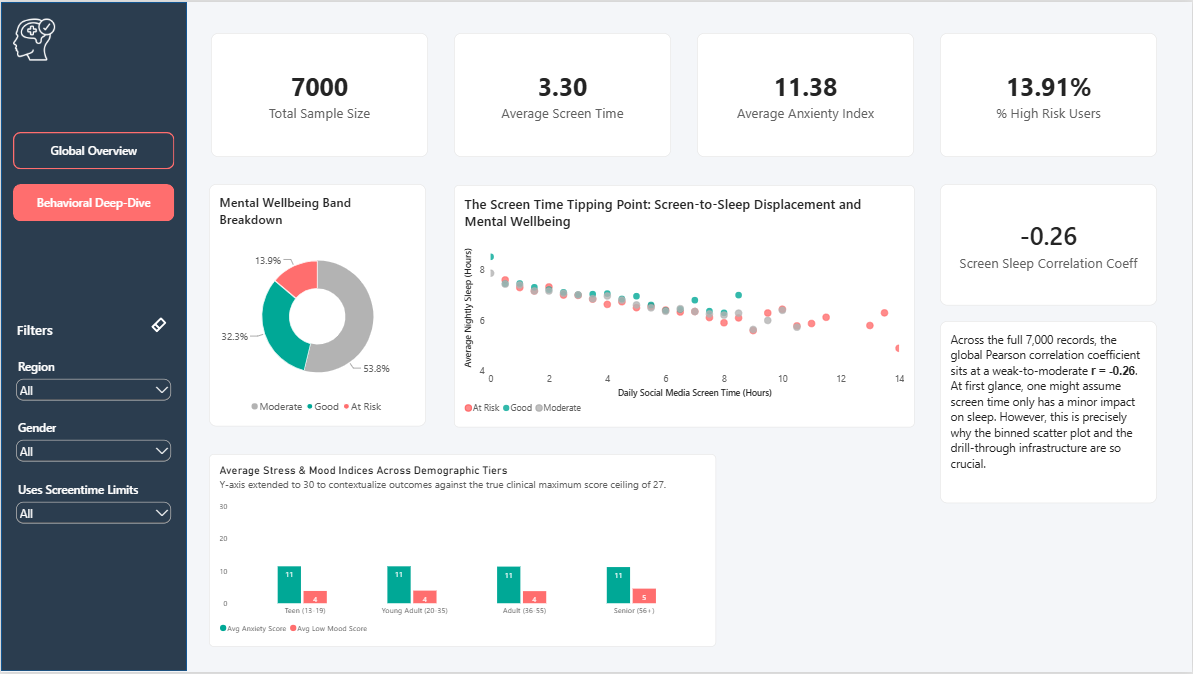

Layout of this report page (visuals, bound fields, positions):
{"tool":"powerbi","page":{"name":"Page 1","canvas":[1920,1080],"ordinal":0},"visuals":[{"type":"card","fields":{"Values":["_Measures.Total Size"]},"box":[339.3,50,350,200],"z":0},{"type":"card","fields":{"Values":["_Measures.Average Screen Time"]},"box":[731,49.8,350,200],"z":1000},{"type":"card","fields":{"Values":["_Measures.Average Anxienty Index"]},"box":[1122.6,49.8,350,200],"z":2000},{"type":"card","fields":{"Values":["_Measures.% High Risk Users"]},"box":[1514.3,50,350,200],"z":3000},{"type":"donutChart","title":"Mental Wellbeing Band Breakdown","fields":{"Category":["smmh_screentime.wellbeing_band"],"Y":["CountNonNull(smmh_screentime.wellbeing_band)"]},"box":[335.7,292.9,350,391.2],"z":4000},{"type":"scatterChart","title":"The Screen Time Tipping Point: Screen-to-Sleep Displacement and Mental Wellbeing","fields":{"Series":["smmh_screentime.wellbeing_band"],"X":["smmh_screentime.Screen_Time_Bin"],"Y":["Avg(smmh_screentime.avg_sleep_hours)"]},"box":[730.4,294.6,742.9,391.1],"z":5000},{"type":"clusteredColumnChart","title":"Average Stress & Mood Indices Across Demographic Tiers","fields":{"Category":["smmh_screentime.Age_Group"],"Y":["_Measures.Avg Anxiety Score","_Measures.Avg Low Mood Score"]},"box":[335.7,728.6,817.9,310.7],"z":6000},{"type":"card","fields":{"Values":["_Measures.Screen Sleep Correlation Coeff"]},"box":[1514.9,293.8,350,195.8],"z":7000},{"type":"textbox","box":[1514.5,514.5,350,293.5],"z":8000},{"type":"shape","box":[0,0,300,1079.3],"z":9000},{"type":"slicer","fields":{"Values":["smmh_screentime.region"]},"box":[19,575.9,260.3,110.3],"z":10000},{"type":"slicer","fields":{"Values":["smmh_screentime.gender"]},"box":[19,674.1,260.3,110.3],"z":11000},{"type":"slicer","fields":{"Values":["smmh_screentime.uses_screen_time_limits"]},"box":[19,774.1,260.3,110.3],"z":12000},{"type":"actionButton","title":"Global Overview","box":[19,210.3,260.3,60],"z":13000},{"type":"actionButton","title":"Behavioral Deep-Dive","box":[19,293.1,260.3,60],"z":14000},{"type":"image","box":[19.6,23.2,67.9,76.8],"z":15000},{"type":"textbox","box":[19.6,514.3,210.7,85.7],"z":16000},{"type":"actionButton","box":[230.3,497,50,50],"z":17000}]}

Visuals, with their boxes in screenshot pixels (x1, y1, x2, y2), scaled from the page's 1920x1080 canvas onto the 1193x674 screenshot:
card - _Measures.Total Size: [left=211, top=31, right=428, bottom=156]
card - _Measures.Average Screen Time: [left=454, top=31, right=672, bottom=156]
card - _Measures.Average Anxienty Index: [left=698, top=31, right=915, bottom=156]
card - _Measures.% High Risk Users: [left=941, top=31, right=1158, bottom=156]
"Mental Wellbeing Band Breakdown" donutChart: [left=209, top=183, right=426, bottom=427]
"The Screen Time Tipping Point: Screen-to-Sleep Displacement and Mental Wellbeing" scatterChart: [left=454, top=184, right=915, bottom=428]
"Average Stress & Mood Indices Across Demographic Tiers" clusteredColumnChart: [left=209, top=455, right=717, bottom=649]
card - _Measures.Screen Sleep Correlation Coeff: [left=941, top=183, right=1159, bottom=306]
textbox: [left=941, top=321, right=1159, bottom=504]
shape: [left=0, top=0, right=186, bottom=673]
slicer - smmh_screentime.region: [left=12, top=359, right=174, bottom=428]
slicer - smmh_screentime.gender: [left=12, top=421, right=174, bottom=490]
slicer - smmh_screentime.uses_screen_time_limits: [left=12, top=483, right=174, bottom=552]
"Global Overview" actionButton: [left=12, top=131, right=174, bottom=169]
"Behavioral Deep-Dive" actionButton: [left=12, top=183, right=174, bottom=220]
image: [left=12, top=14, right=54, bottom=62]
textbox: [left=12, top=321, right=143, bottom=374]
actionButton: [left=143, top=310, right=174, bottom=341]
